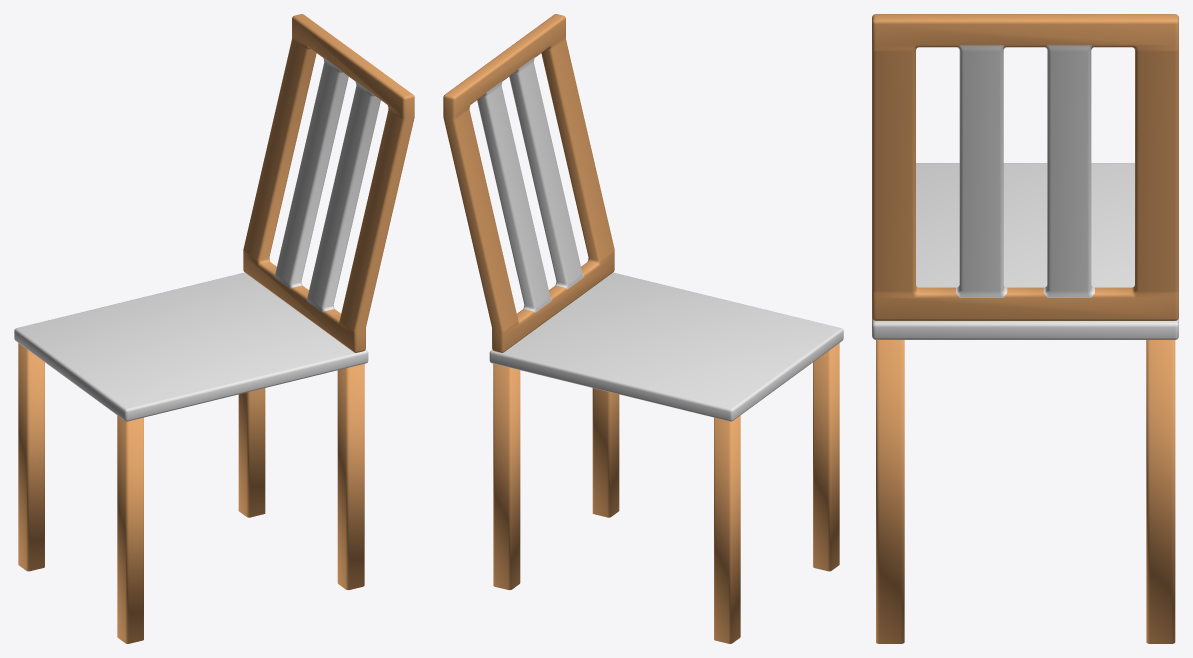
Rendered from chair.glb.
3 views of the same model, side by side, from view 1: azimuth 30°, elevation 25°; view 2: azimuth 150°, elevation 25°; view 3: azimuth 270°, elevation 25° (orthographic). The views are drawn at different scales.
Visible parts, largest first — view 1: Chair; view 2: Chair; view 3: Chair.
Part boxes in pixels (box(x1,y1,x2,y2)): Chair: box(14, 14, 414, 643); Chair: box(443, 14, 843, 643); Chair: box(872, 14, 1178, 643).
Bounding box in the file's own units: 1.19 × 1.88 × 0.8.
